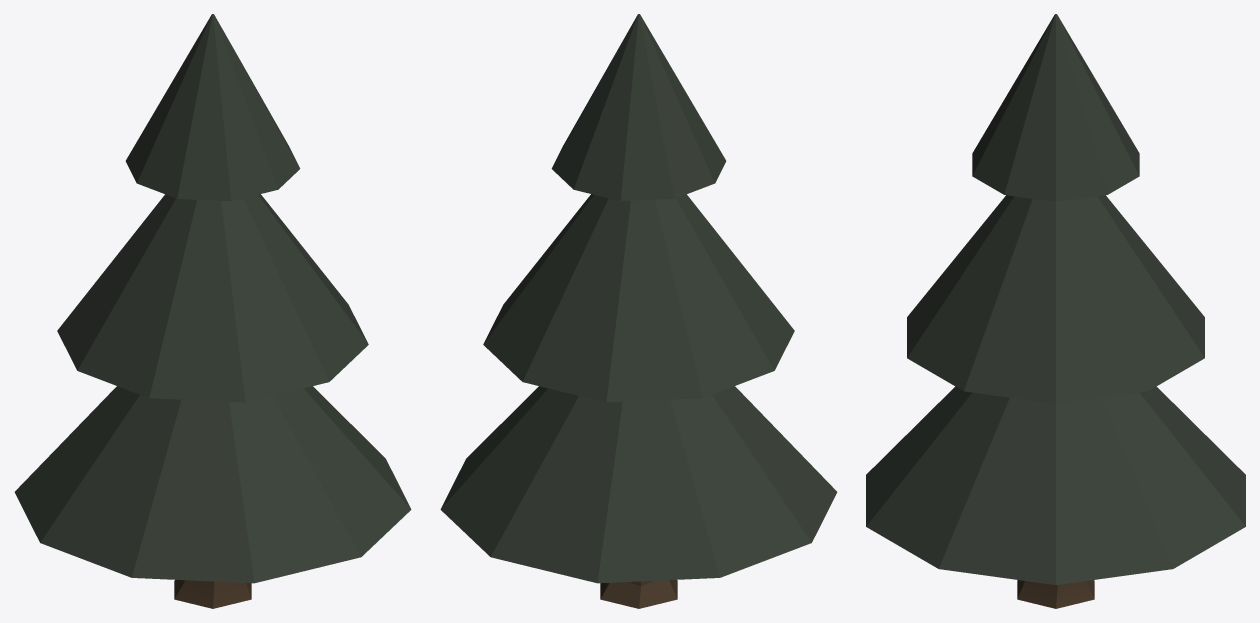
Rendered from Low poly tree.fbx.
3 views of the same model, side by side, from view 1: azimuth 30°, elevation 25°; view 2: azimuth 150°, elevation 25°; view 3: azimuth 270°, elevation 25° (orthographic).
Parts seen in each view (by area): view 1: polySurface4508; view 2: polySurface4508; view 3: polySurface4508.
Boxes of the visible parts, x1,y1,x2,y2 form: polySurface4508: (14,14,411,608); polySurface4508: (440,14,837,608); polySurface4508: (866,14,1245,608).
Bounding box in the file's own units: 14.42 × 22.94 × 13.72.
